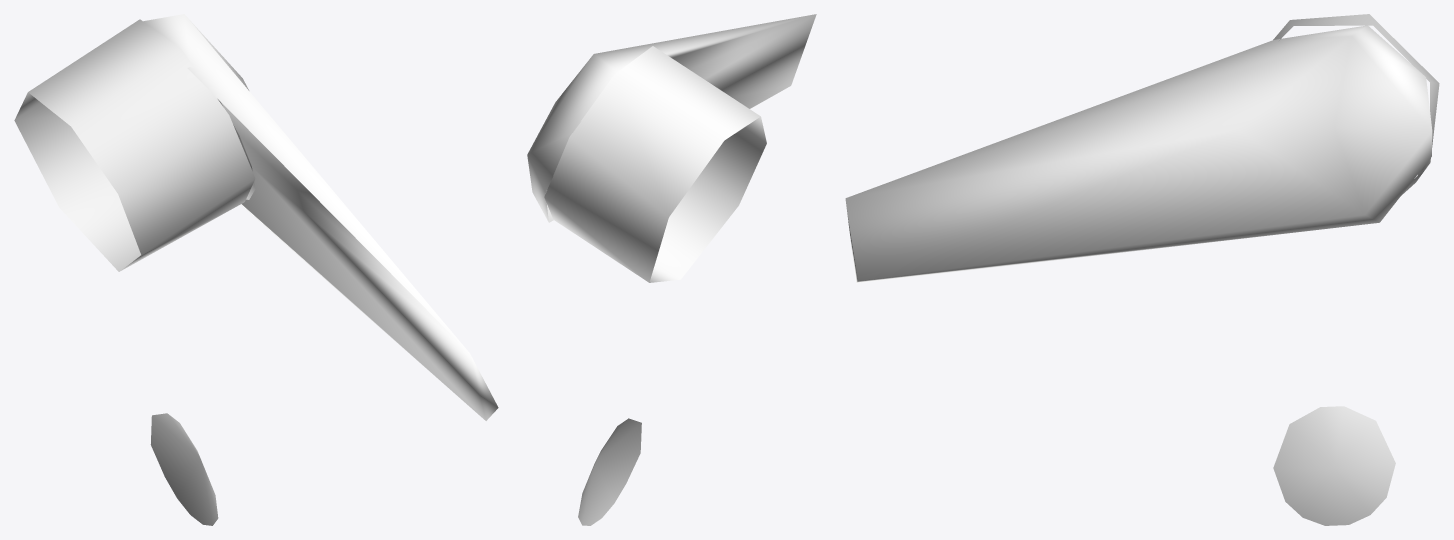
3 views of the same model, side by side, from view 1: azimuth 30°, elevation 25°; view 2: azimuth 150°, elevation 25°; view 3: azimuth 270°, elevation 25° (orthographic). The views are drawn at different scales.
Size of the model in its own units: 0.0607 by 0.1403 by 0.155.
1 material, 1 textured.
